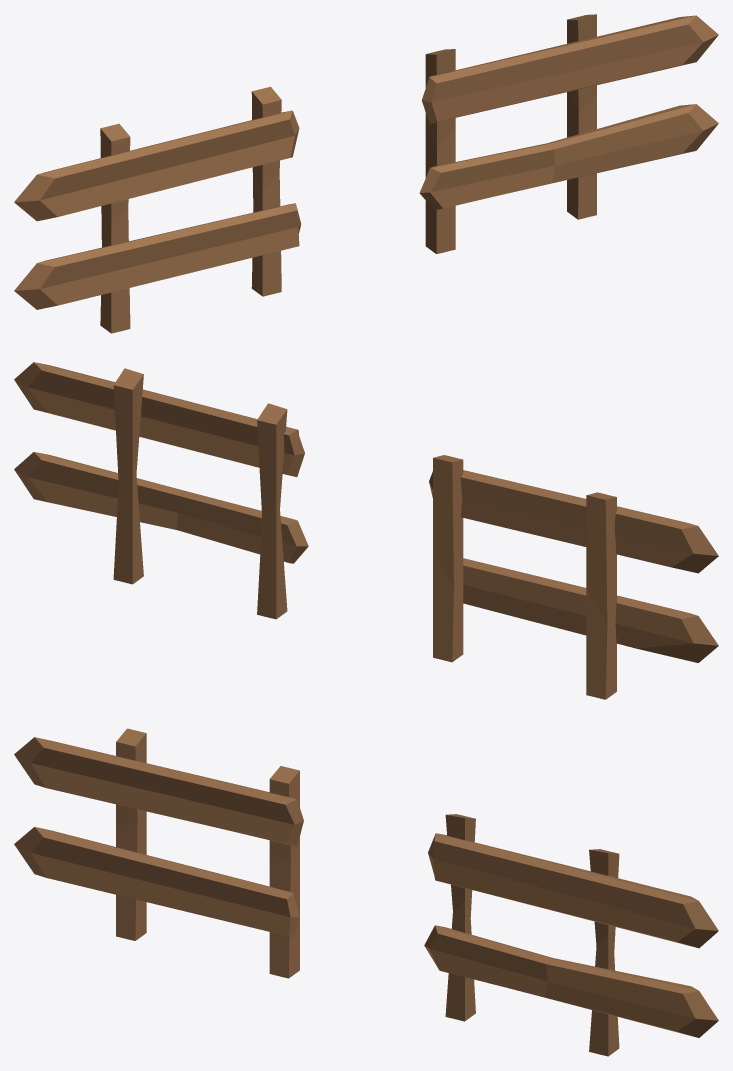
File: Fence_3 Gate.fbx
3 views of the same model, one above another, from view 1: azimuth 30°, elevation 25°; view 2: azimuth 150°, elevation 25°; view 3: azimuth 330°, elevation 25° (orthographic).
Parts seen in each view (by area): view 1: Fence3Gate_mesh; view 2: Fence3Gate_mesh; view 3: Fence3Gate_mesh.
Part boxes in pixels (x1,y1,x2,y2): Fence3Gate_mesh: (14,14,718,333); Fence3Gate_mesh: (14,362,718,699); Fence3Gate_mesh: (14,728,718,1056).
Bounding box in the file's own units: 356 × 97.4 × 18.55.
